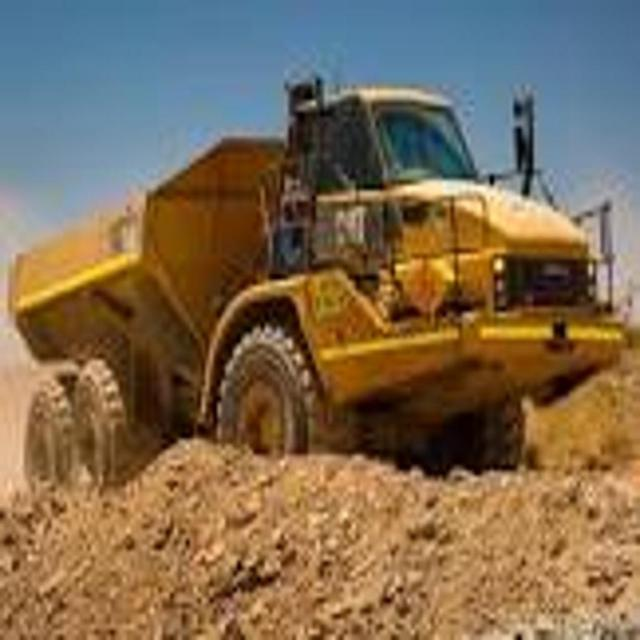dump_truck: (5, 56, 634, 494)
